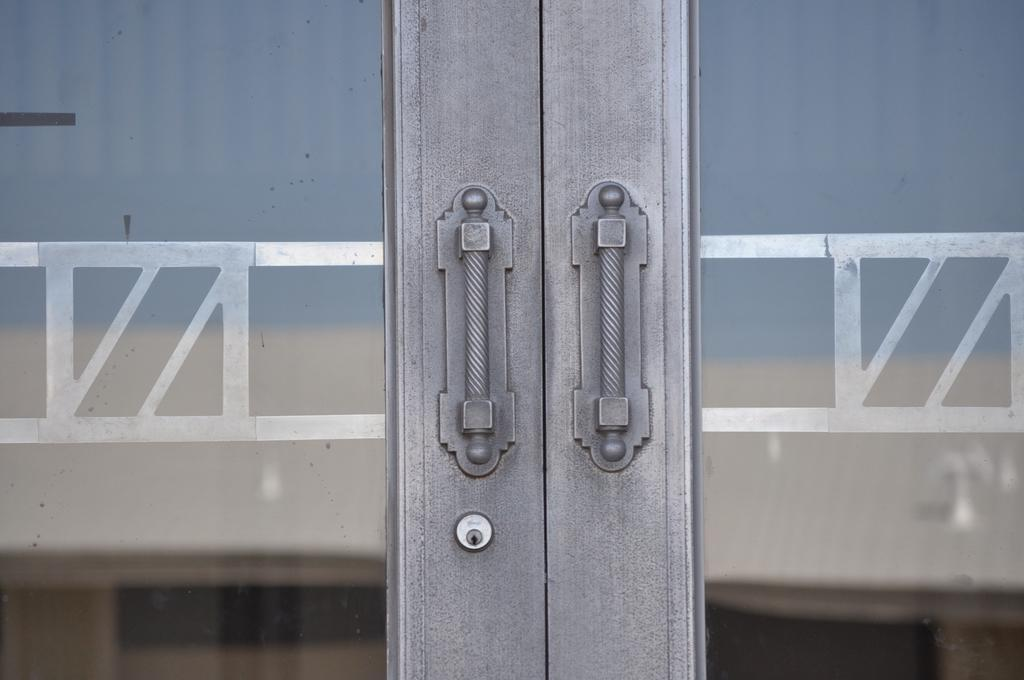door: (0, 15, 530, 680), (560, 4, 1022, 670)
handle: (450, 194, 504, 457), (580, 190, 634, 452)
